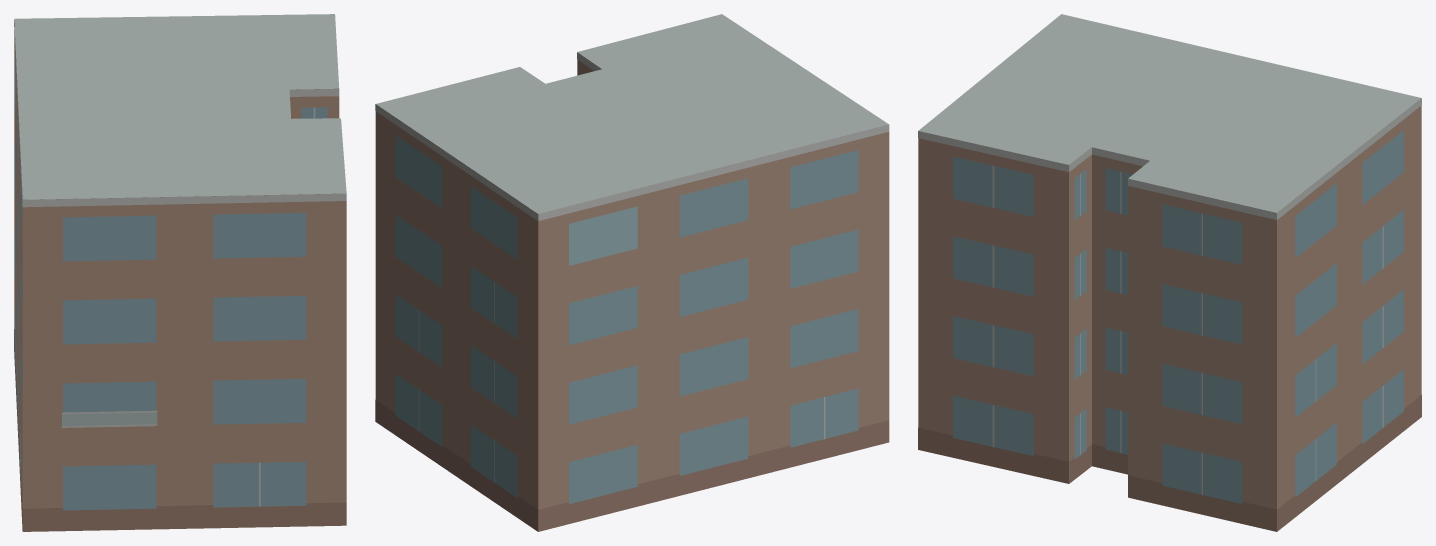
File: survey-upis-32694922.glb
The picture shows the model from 3 angles, left to right: view 1: azimuth 30°, elevation 25°; view 2: azimuth 150°, elevation 25°; view 3: azimuth 270°, elevation 25°; orthographic projection. The views are drawn at different scales.
Parts seen in each view (by area): view 1: survey-upis-32694922.tmp; view 2: survey-upis-32694922.tmp; view 3: survey-upis-32694922.tmp.
Boxes of the visible parts, bbox=[...] form: survey-upis-32694922.tmp: bbox=[14, 14, 346, 531]; survey-upis-32694922.tmp: bbox=[375, 14, 889, 531]; survey-upis-32694922.tmp: bbox=[918, 14, 1421, 531].
Size of the model in its own units: 14.53 by 10.85 by 15.54.
